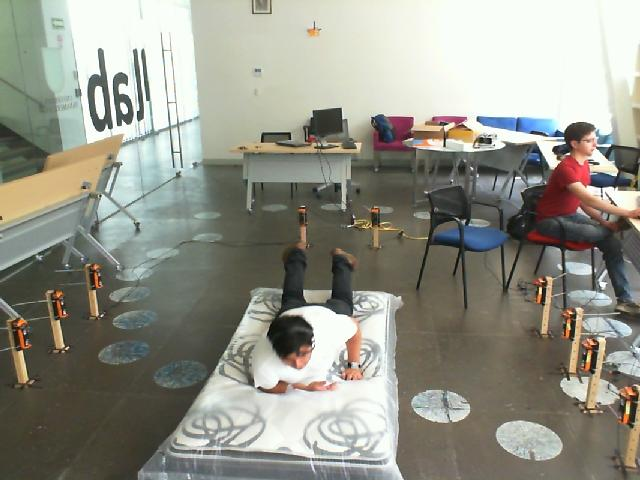fallen: (236, 244, 386, 401)
